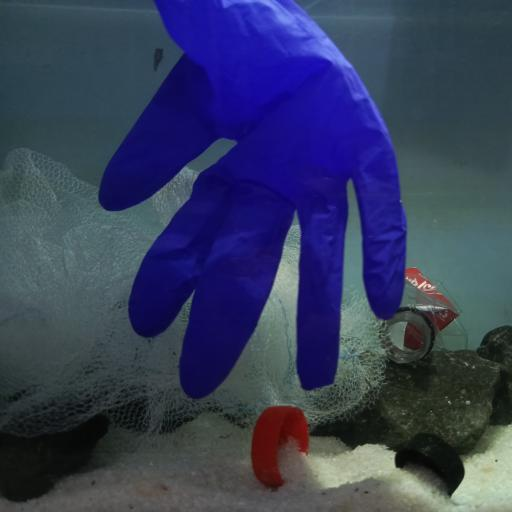bottle_cap: (252, 405, 312, 491), (394, 430, 465, 494)
glove: (98, 0, 406, 400)
net: (0, 145, 391, 444)
plastic_bottle: (381, 266, 470, 366)
